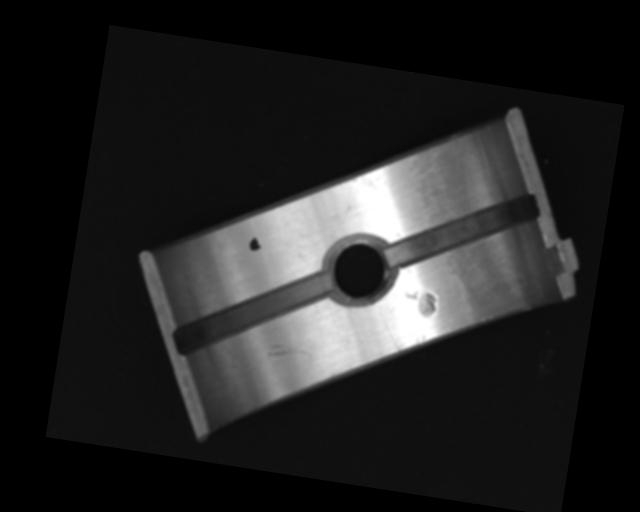blot: (248, 235, 262, 252)
bruise: (400, 287, 439, 319)
gap: (173, 250, 331, 375), (384, 174, 539, 285)
hole: (322, 229, 398, 311)
nick: (266, 341, 315, 364)
